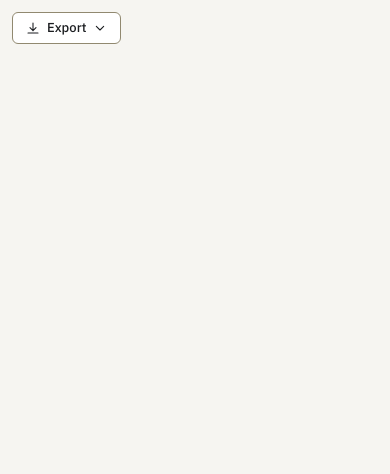
it: the export menu in a browser that cannot write a file it chose › offers a large result as a plain download of the address and says why there is no progress
Click the button "Export": [67, 28] box 12,12 -> 121,44
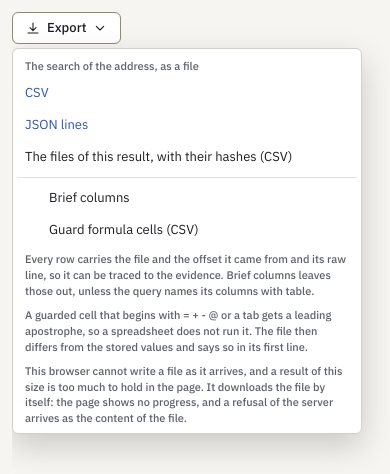
Expected: the text "This browser cannot write a file as it arrives" shows "the page shows no progress, and a refusal of the server arrives as the content of the file", 25,364 -> 342,425
The guard is part of the address.
Click the menu item "Guard formula cells (CSV)": [124, 229] box 49,220 -> 199,238
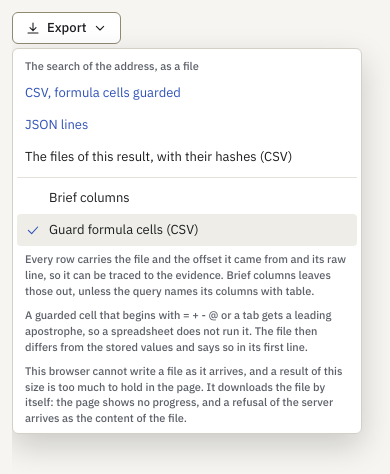
Expected: the menu item "CSV, formula cells guarded" has attribute href="/api/v1/cases/7/search/export?format=csv&query=status%3D404&formula_guard=true", 25,84 -> 181,100
